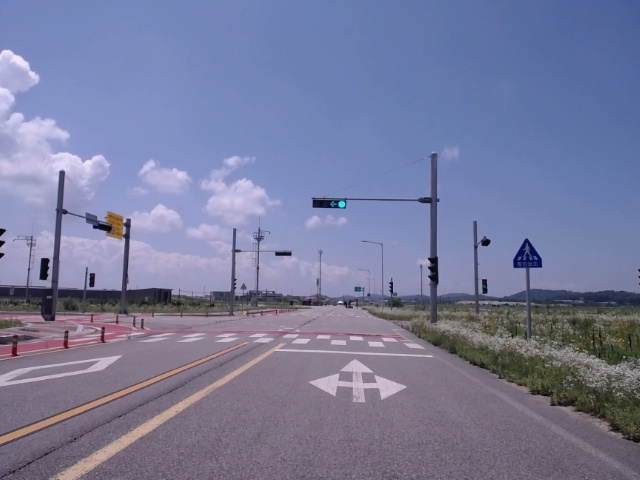all_green_4: (315, 198, 346, 208)
